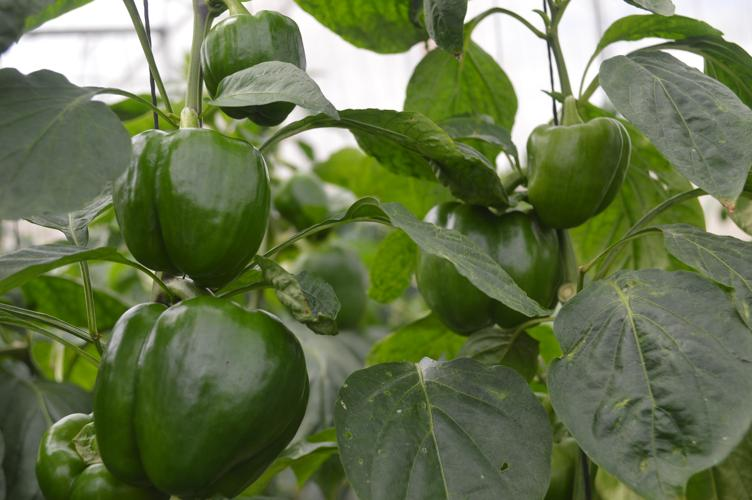BellPepper: (96, 297, 311, 483), (112, 127, 273, 284), (417, 204, 557, 332), (526, 118, 629, 229), (201, 13, 304, 121), (29, 410, 140, 498)
